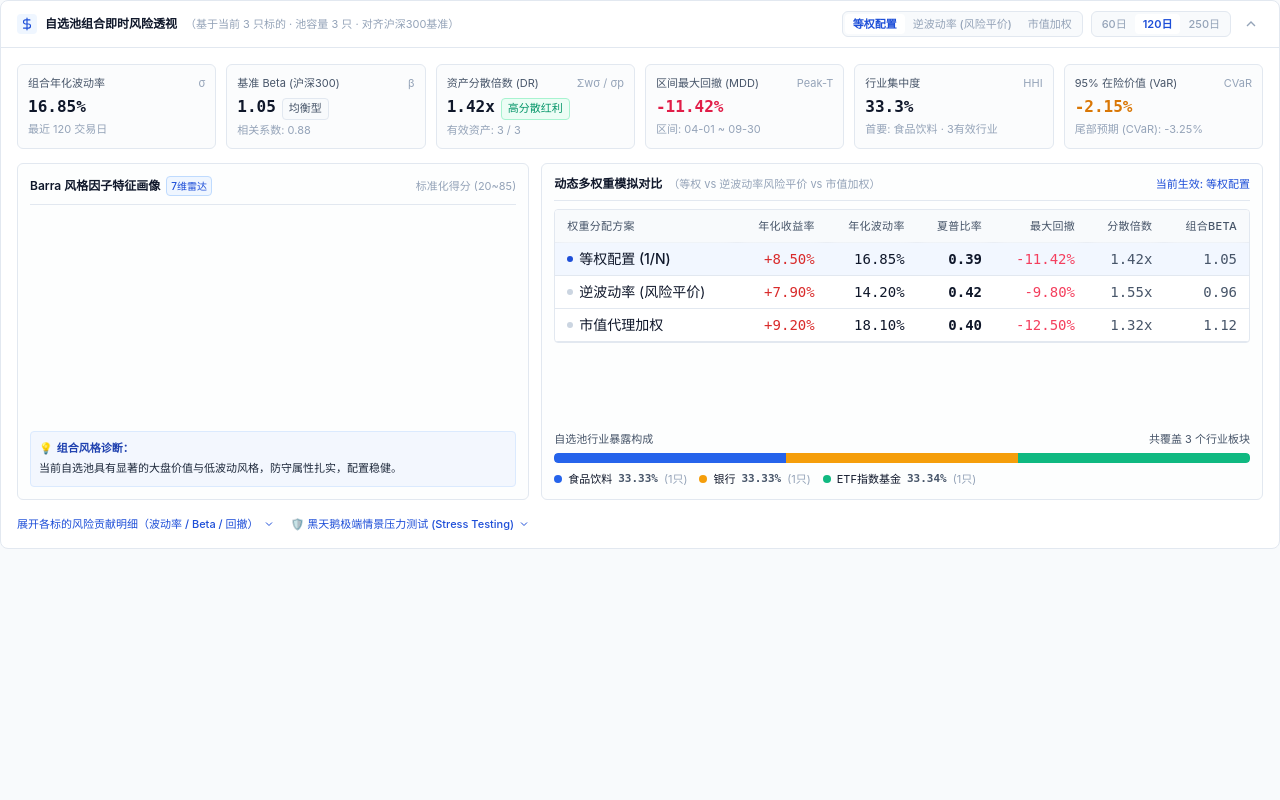
Test: WatchlistRiskRadar › 展开各标的明细表格能显示成分股的波动率与Beta贡献
Click the button "展开各标的风险贡献明细（波动率 / Beta / 回撤）" at coordinates (146, 524), box x1=17 y1=516 x2=275 y2=532
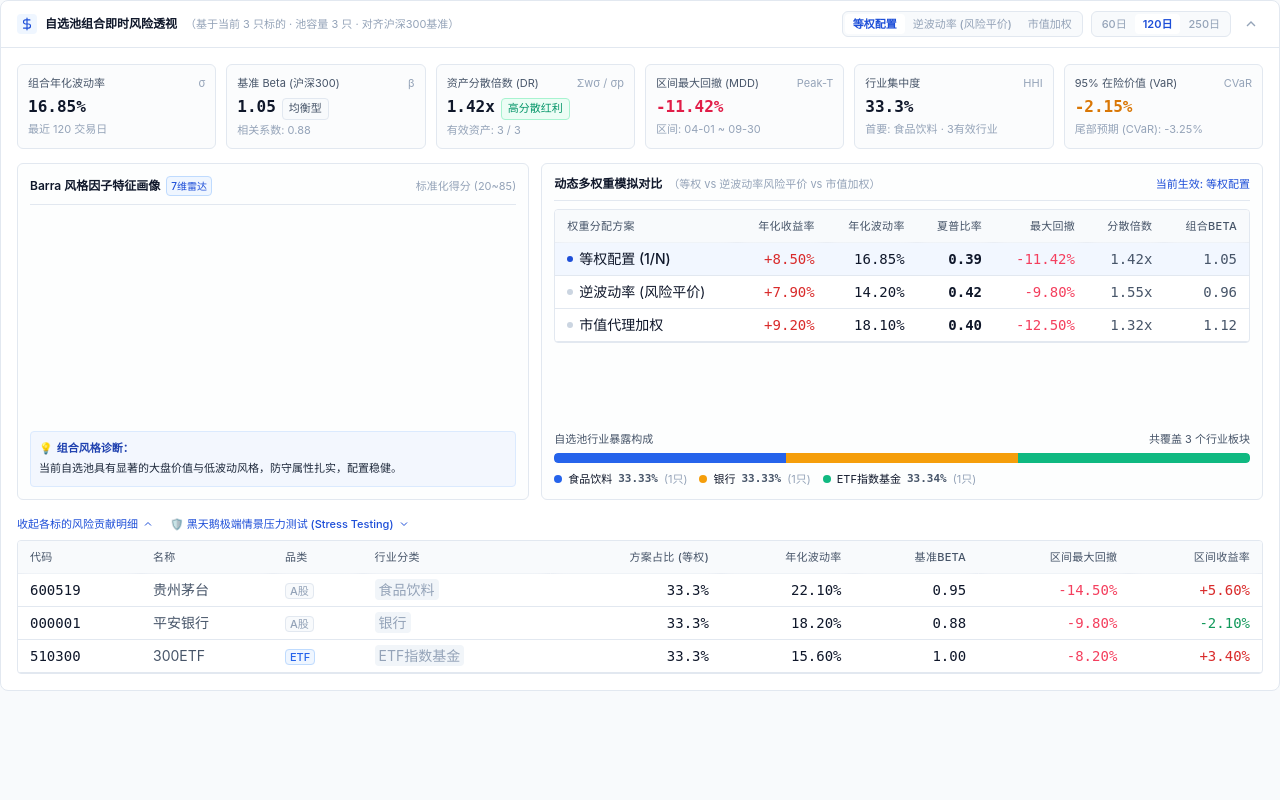
Now the text "贵州茅台" is shown, box x1=141 y1=573 x2=273 y2=606
Now the text "平安银行" is shown, box x1=141 y1=606 x2=273 y2=639
Now the text "300ETF" is shown, box x1=141 y1=639 x2=273 y2=672
